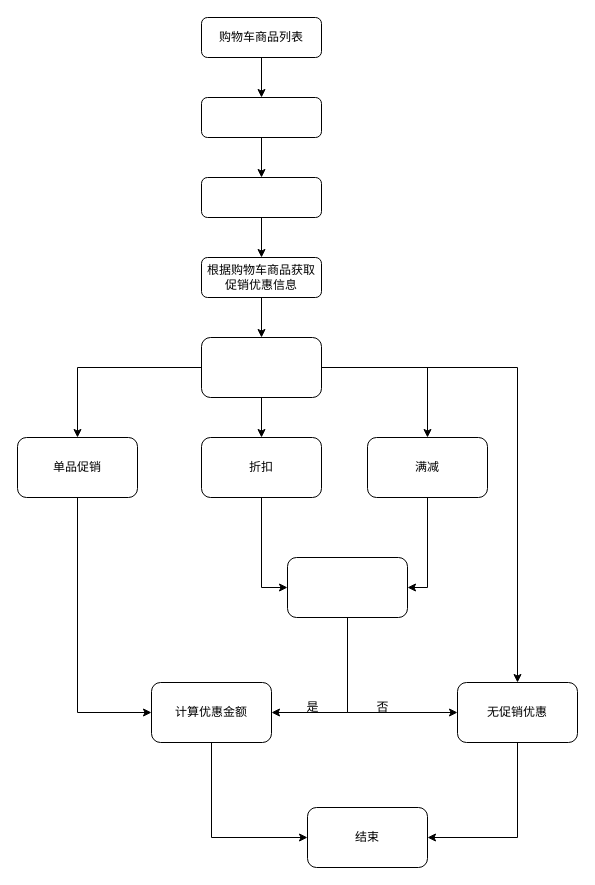
Image size: 595x885. Some labels were removed from this diagram. Each missing label, with the box of its shape:
分组遍历购物车商品并根据对应的促销优惠信息获取促销优惠: (200, 336, 322, 398)
开始: (200, 96, 322, 138)
是否满足条件: (286, 556, 408, 618)
根据商品id对购物车商品进行分组: (200, 176, 322, 218)
